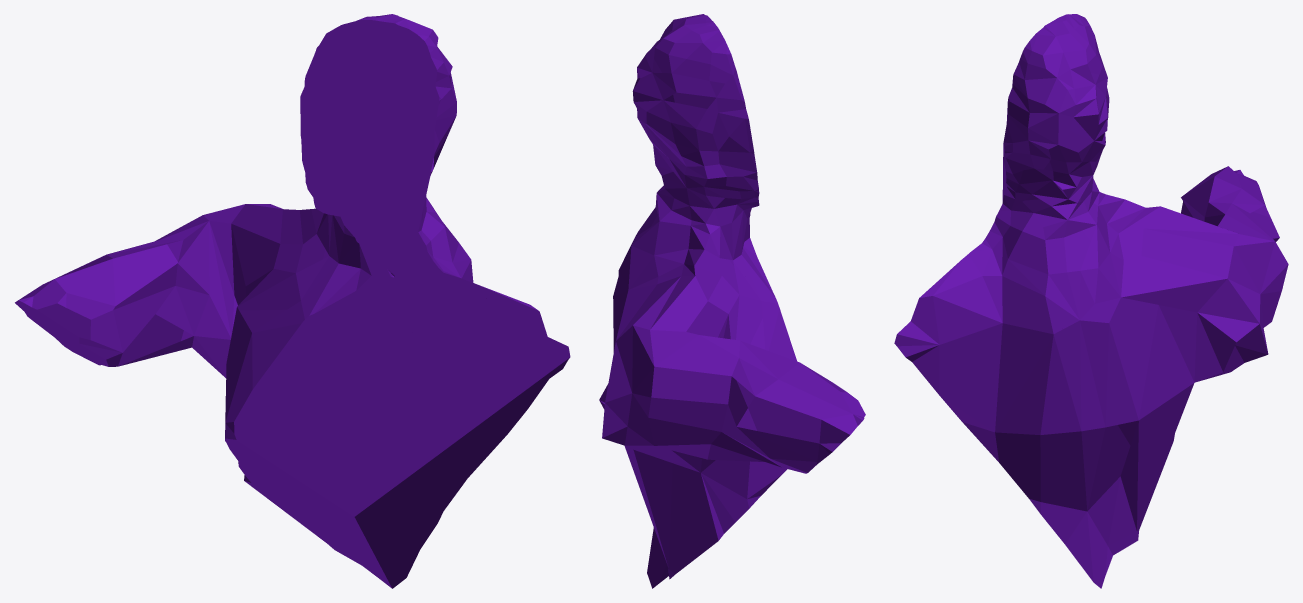
File: TheMan_0_chunks.fbx
3 views of the same model, side by side, from view 1: azimuth 30°, elevation 25°; view 2: azimuth 150°, elevation 25°; view 3: azimuth 270°, elevation 25° (orthographic). The views are drawn at different scales.
Parts seen in each view (by area): view 1: TheMan_0_0, TheMan_0_12, TheMan_0_14, TheMan_0_6, TheMan_0_8, TheMan_0_7, TheMan_0_10, TheMan_0_5, TheMan_0_9, TheMan_0_15, TheMan_0_16, TheMan_0_17; view 2: TheMan_0_0, TheMan_0_9, TheMan_0_8, TheMan_0_6, TheMan_0_7, TheMan_0_2, TheMan_0_4, TheMan_0_20, TheMan_0_21, TheMan_0_5, TheMan_0_1, TheMan_0_18 (+3 smaller); view 3: TheMan_0_21, TheMan_0_2, TheMan_0_16, TheMan_0_18, TheMan_0_0, TheMan_0_17, TheMan_0_5, TheMan_0_20, TheMan_0_9, TheMan_0_14, TheMan_0_8, TheMan_0_3 (+3 smaller).
Boxes of the visible parts, <box> form: TheMan_0_0: <box>300,14,456,249</box>; TheMan_0_12: <box>275,272,427,504</box>; TheMan_0_14: <box>429,295,570,458</box>; TheMan_0_6: <box>15,240,193,366</box>; TheMan_0_8: <box>157,204,328,310</box>; TheMan_0_7: <box>207,309,309,505</box>; TheMan_0_10: <box>275,469,426,583</box>; TheMan_0_5: <box>319,195,467,315</box>; TheMan_0_9: <box>152,213,240,370</box>; TheMan_0_15: <box>411,306,454,496</box>; TheMan_0_16: <box>426,419,519,540</box>; TheMan_0_17: <box>426,255,514,309</box>; TheMan_0_0: <box>644,14,759,241</box>; TheMan_0_9: <box>599,360,768,464</box>; TheMan_0_8: <box>614,234,770,370</box>; TheMan_0_6: <box>731,345,865,473</box>; TheMan_0_7: <box>660,296,797,554</box>; TheMan_0_2: <box>606,198,714,387</box>; TheMan_0_4: <box>633,58,698,173</box>; TheMan_0_20: <box>624,446,686,536</box>; TheMan_0_21: <box>613,248,663,352</box>; TheMan_0_5: <box>630,185,757,274</box>; TheMan_0_1: <box>669,158,715,235</box>; TheMan_0_18: <box>638,485,680,588</box>; TheMan_0_21: <box>1060,254,1179,420</box>; TheMan_0_2: <box>1077,193,1246,334</box>; TheMan_0_16: <box>949,357,1063,534</box>; TheMan_0_18: <box>1059,417,1152,588</box>; TheMan_0_0: <box>1002,14,1109,202</box>; TheMan_0_17: <box>939,254,1062,368</box>; TheMan_0_5: <box>968,198,1121,297</box>; TheMan_0_20: <box>1115,320,1197,490</box>; TheMan_0_9: <box>1199,211,1288,379</box>; TheMan_0_14: <box>894,277,991,405</box>; TheMan_0_8: <box>1123,196,1269,339</box>; TheMan_0_3: <box>1047,85,1100,226</box>.
Bounding box in the file's own units: 691 × 1078 × 698.
